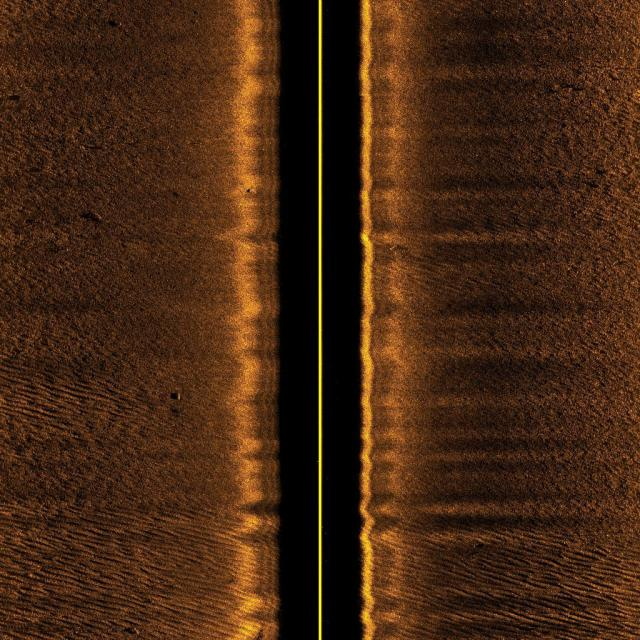mine: (122, 625, 142, 635), (169, 390, 182, 400)
